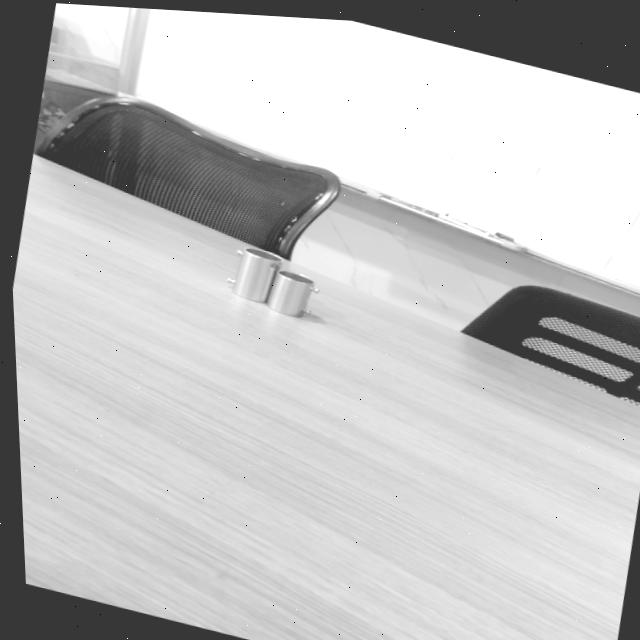Co_Lon: (227, 244, 284, 306)
Co_Nho: (264, 266, 317, 321)
